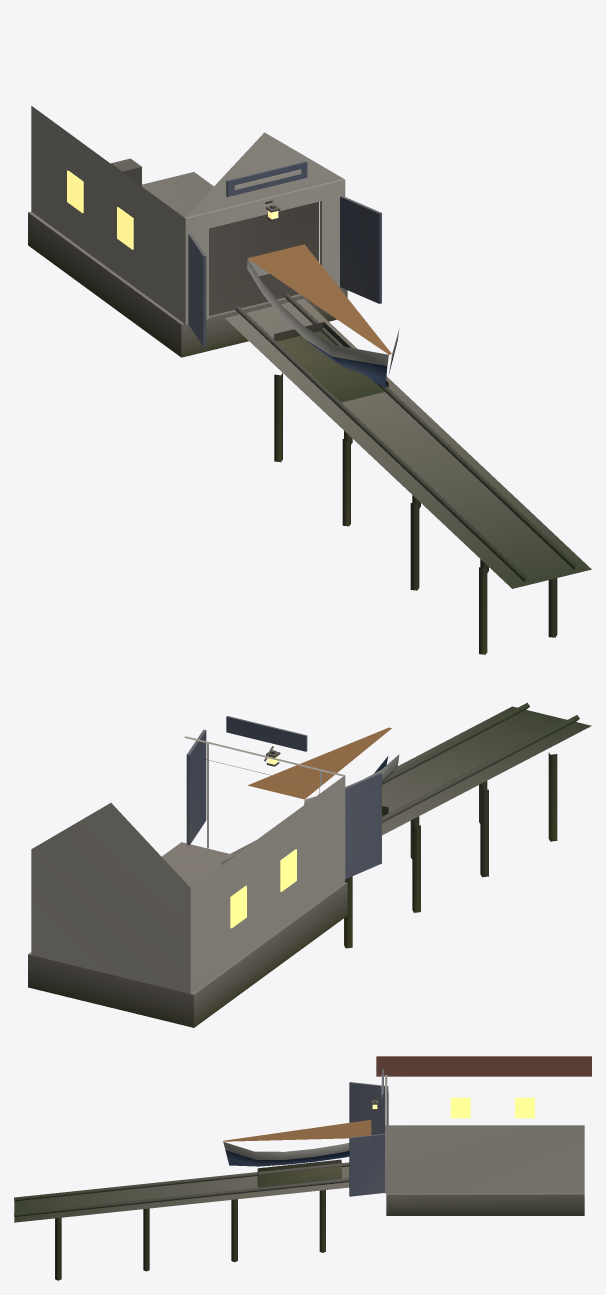
File: wreck_cove_lifeboat_station.glb
The picture shows the model from 3 angles, top to bottom: view 1: azimuth 30°, elevation 25°; view 2: azimuth 150°, elevation 25°; view 3: azimuth 270°, elevation 25°; orthographic projection. The views are drawn at different scales.
Parts seen in each view (by area): view 1: body, station_windows; view 2: body, station_windows; view 3: body, station_windows.
Part boxes in pixels (x1=…): body: x1=28, y1=106, x2=591, y2=654; station_windows: x1=67, y1=170, x2=133, y2=249; body: x1=28, y1=702, x2=591, y2=1027; station_windows: x1=230, y1=849, x2=296, y2=928; body: x1=14, y1=1056, x2=591, y2=1280; station_windows: x1=450, y1=1097, x2=534, y2=1118.
Size of the model in its own units: 5.5 by 9.45 by 23.31.
